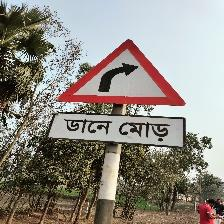Right-turn: (49, 37, 187, 147)
